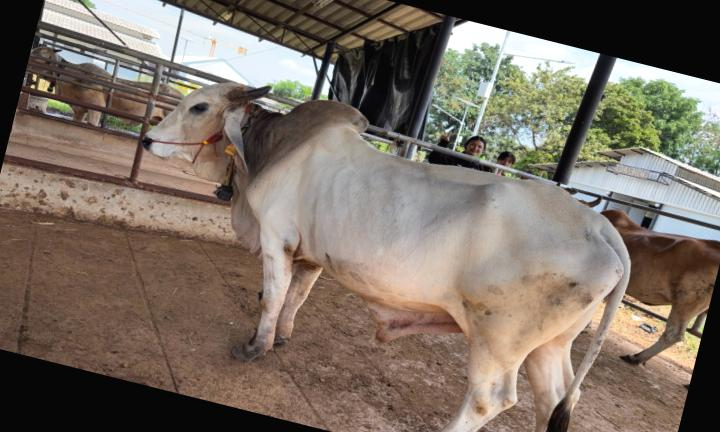Brahman: (143, 83, 630, 432)
